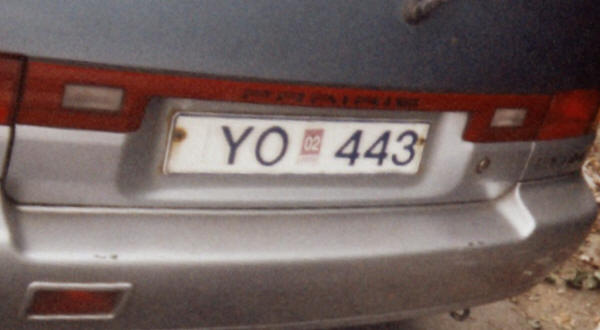license_plate: (164, 111, 431, 177)
